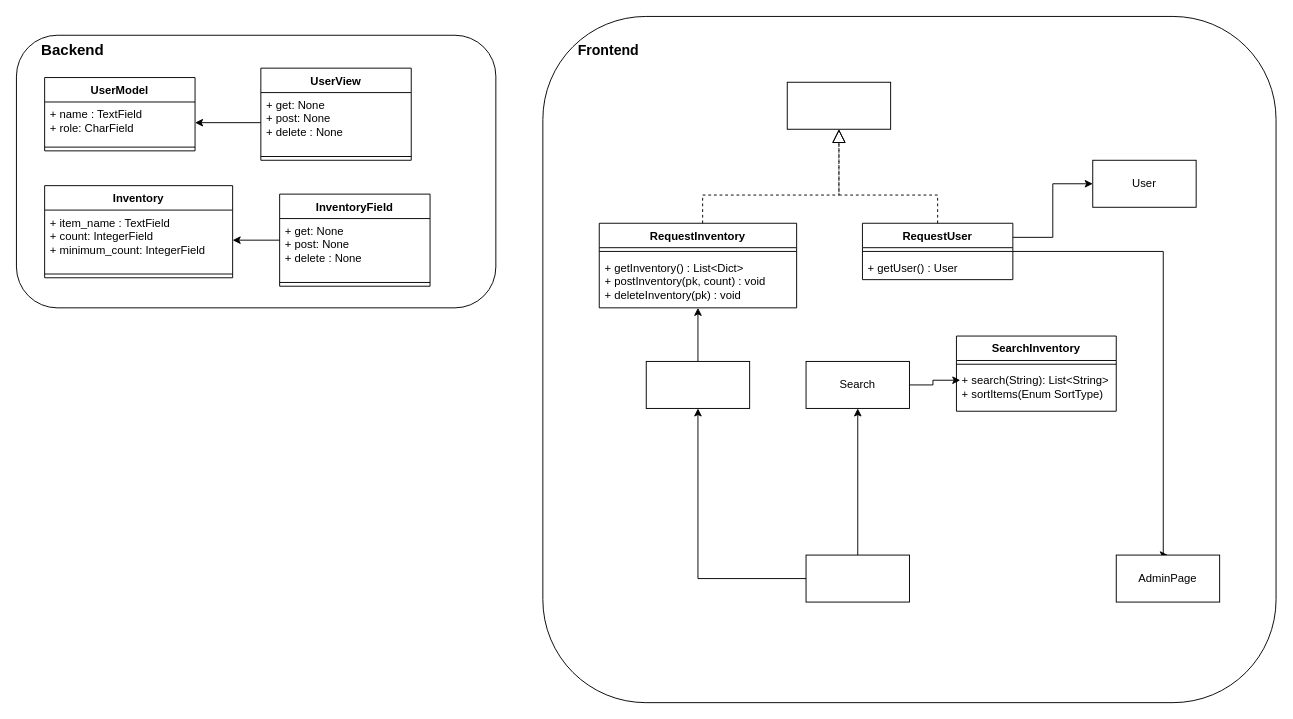
This 1293x719 diagram has some shape labels left out. Each missing label, with the centre of its shape:
"Home" goes at (857,578).
"ListItem" goes at (697,384).
"«interface» Request" goes at (838,105).
